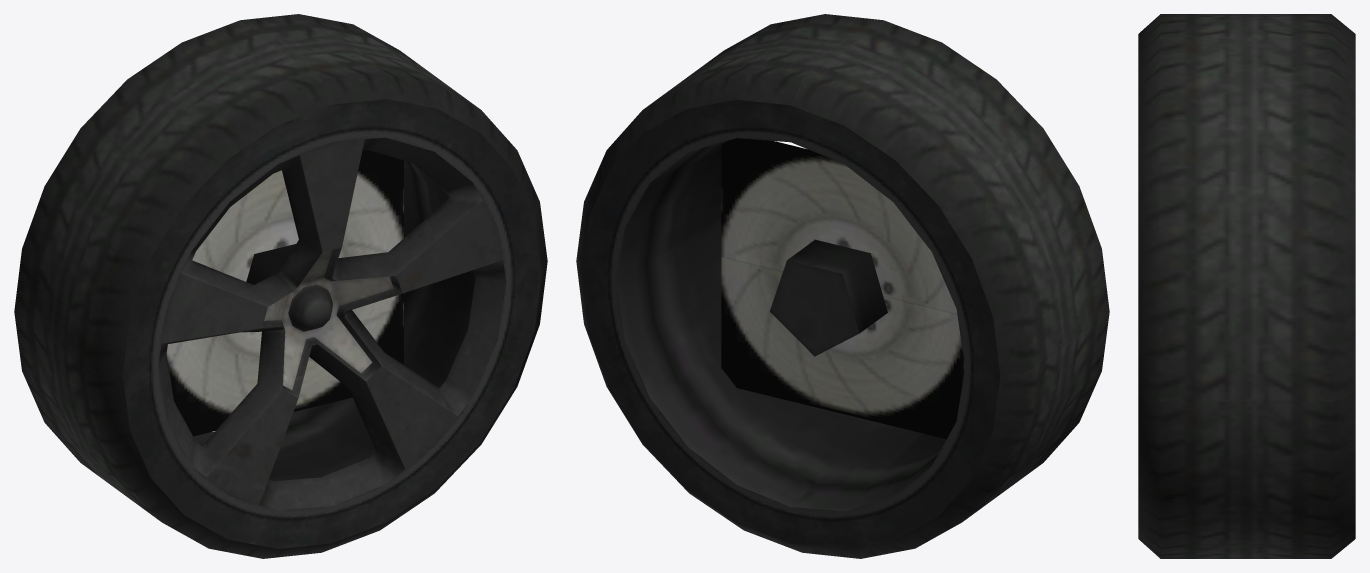
The model's file is v_a_classicmuscle_Wheels_20_SkeletalMesh3_SkeletalMesh_2.psk.glb.
3 renders of one model, left to right at view 1: azimuth 30°, elevation 25°; view 2: azimuth 150°, elevation 25°; view 3: azimuth 270°, elevation 25°, orthographic. The views are drawn at different scales.
Bounding box in the file's own units: 67.92 × 67.92 × 26.94.
Materials: 1 (1 with a texture image).
